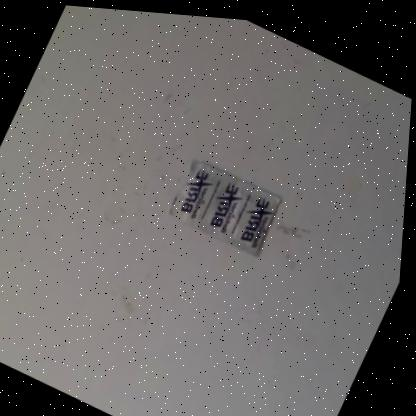Plastic: (172, 157, 284, 252)
